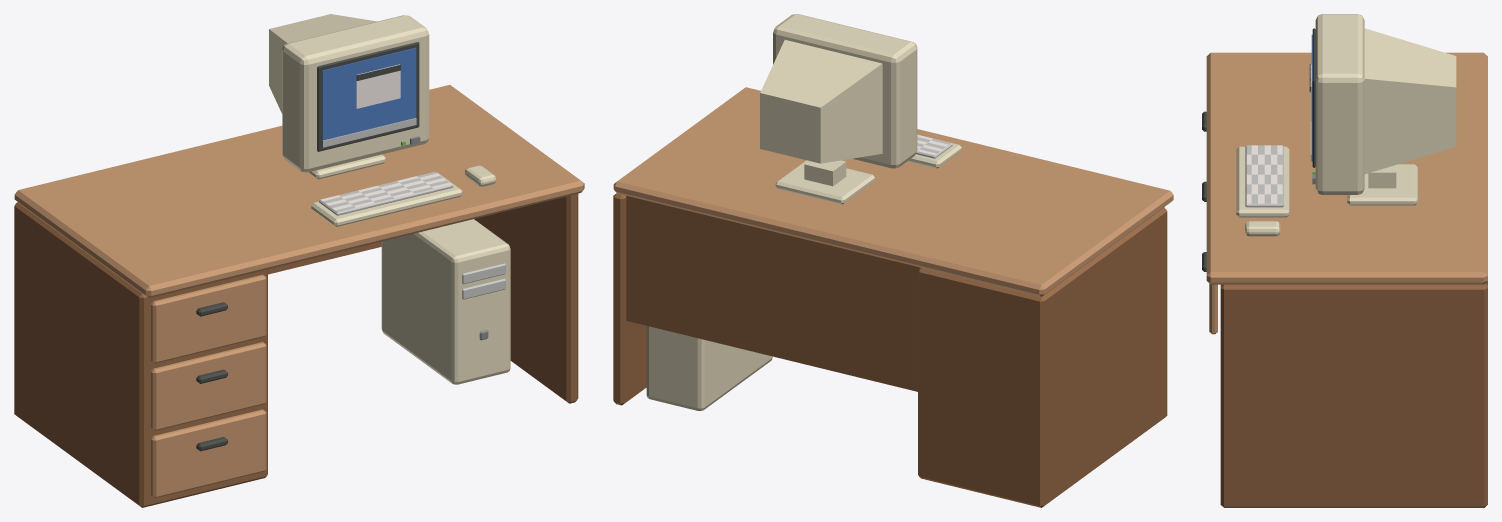
Rendered from computer_desk.glb.
3 renders of one model, left to right at view 1: azimuth 30°, elevation 25°; view 2: azimuth 150°, elevation 25°; view 3: azimuth 270°, elevation 25°, orthographic. The views are drawn at different scales.
Visible parts, largest first — view 1: computer_desk; view 2: computer_desk; view 3: computer_desk.
Part boxes in pixels (bbox=[...]): computer_desk: bbox=[14, 14, 584, 507]; computer_desk: bbox=[613, 14, 1173, 507]; computer_desk: bbox=[1202, 14, 1487, 507].
Size of the model in its own units: 1.5 by 1.19 by 0.8126.
1 material, 1 textured.
